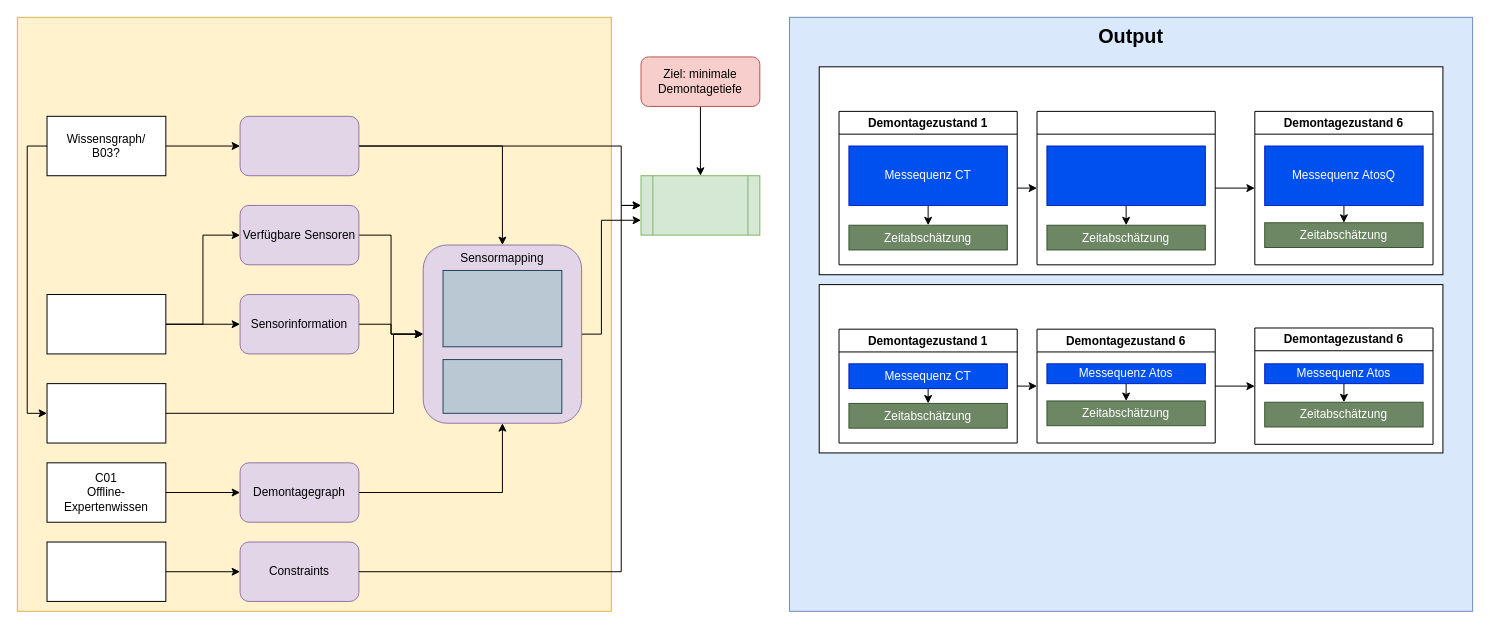
The diagram is 1490 pixels wide and 629 high, and some of its shapes have lost their labels. Each missing label, with the box of its shape:
Demontagezustand 3: (1036, 110, 1215, 265)
Input: (16, 16, 611, 611)
Iterieren über Demontagegraph: (442, 359, 562, 413)
Menge Messaufgaben + Genauigkeit: (239, 115, 359, 176)
Messequenz optisch: (1046, 145, 1205, 205)
Messstrategie: (640, 175, 760, 235)
Offline-Simulation Expertenwissen: (46, 383, 166, 443)
Ontologie/ Hardwarebelegung: (46, 294, 166, 354)
Szenarien (Produktions-steuerung): (46, 541, 166, 601)
Szenario 1: (818, 66, 1443, 275)
Szenario 2: (818, 284, 1443, 453)
View-Planning Simulation/ NeRF oder sowas: (442, 269, 562, 347)
